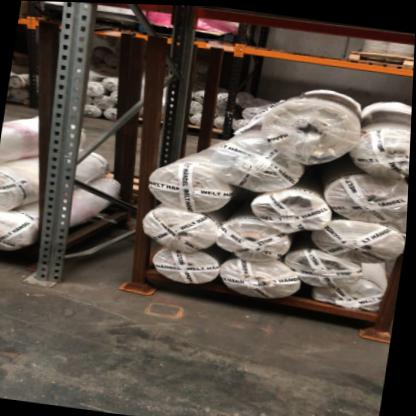vertical_damage: (20, 245, 79, 297)
